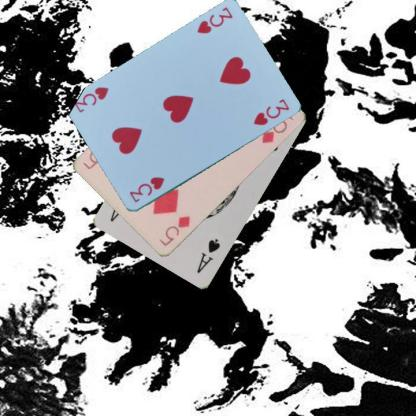3h: (194, 5, 234, 36), (126, 174, 166, 204)
5d: (156, 212, 194, 248)
As: (194, 236, 222, 275)
